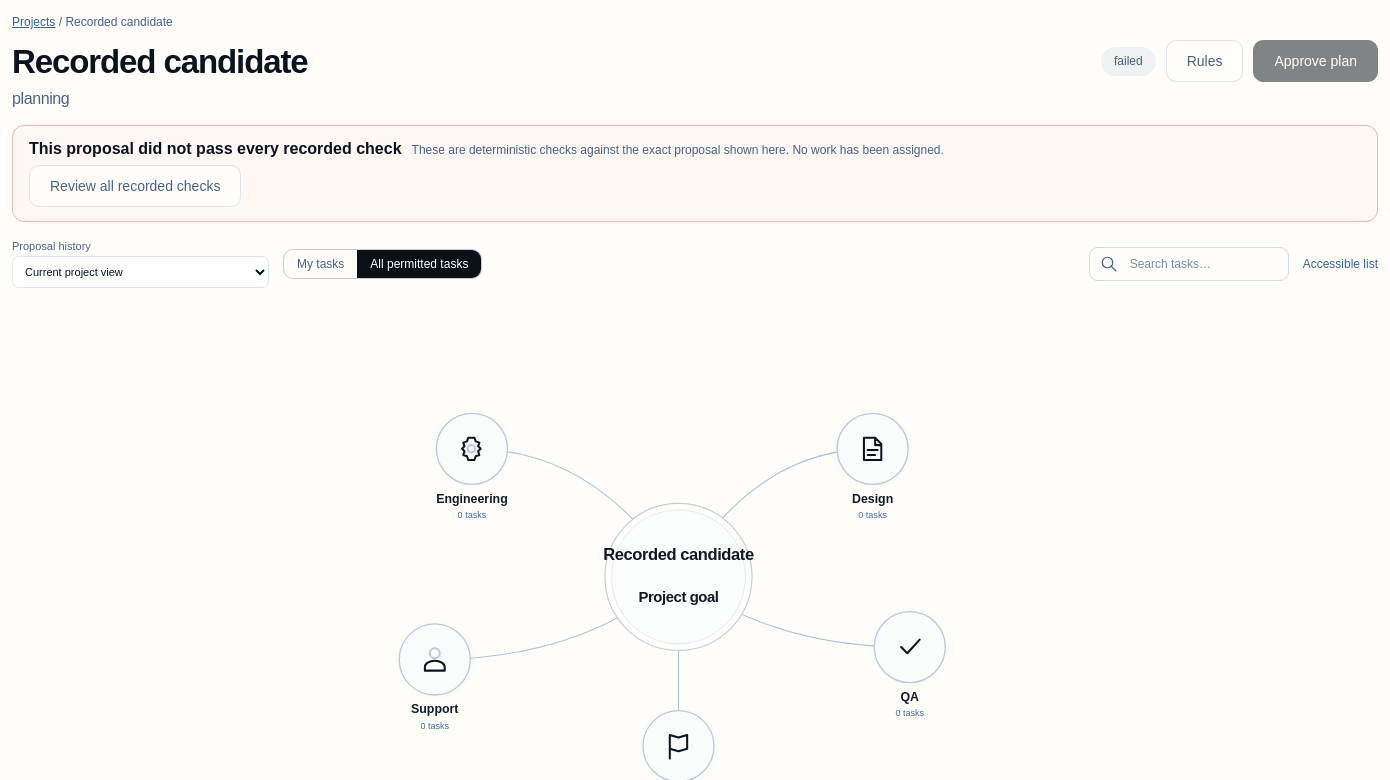
Scenario: ALTO authenticated route contracts › loads exact historical candidate evidence and never presents a failed check as an approved schedule
This screenshot has width=1390, height=780.
Select "v1 · authored check · failed · validation failed" in the dropdown labelled "Proposal history". click: (140, 272)
box: [12, 256, 269, 288]
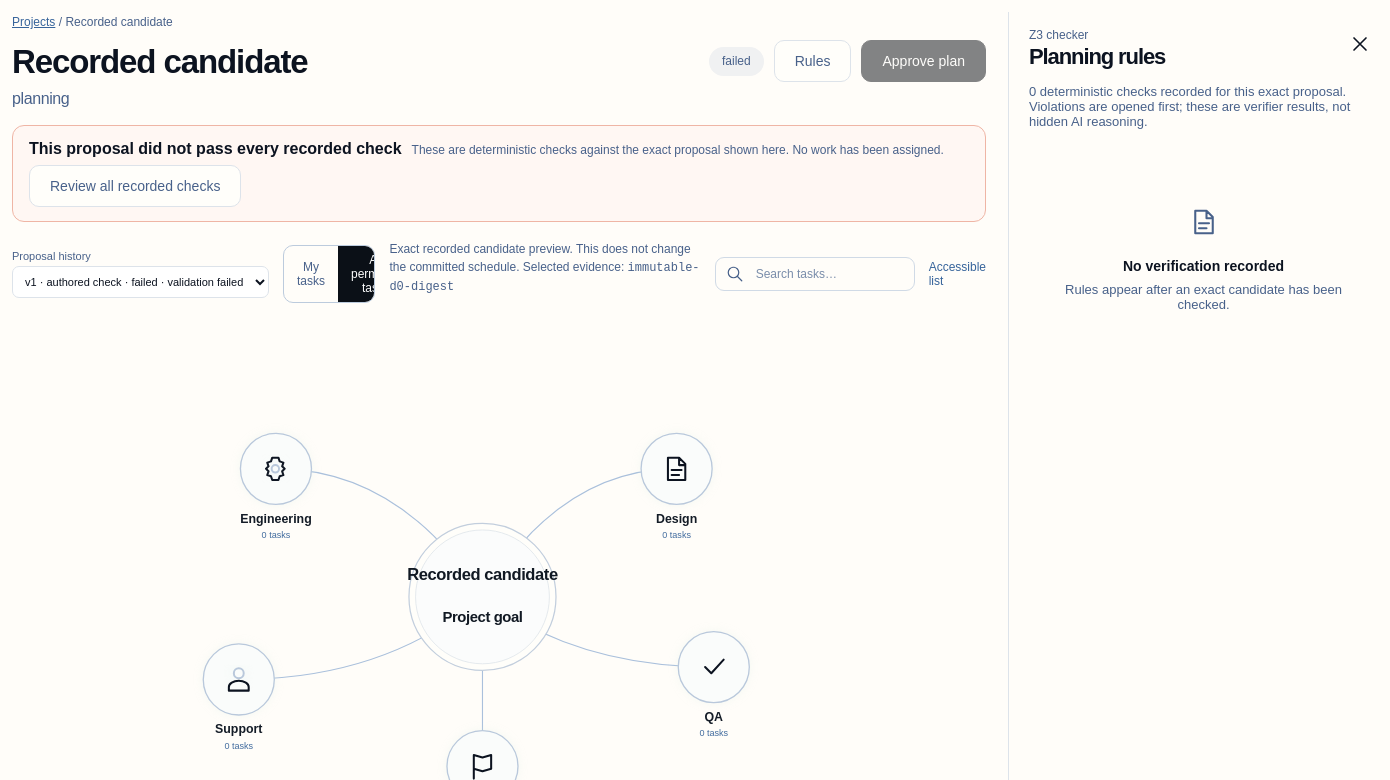
Expected: the button "Approve plan" is disabled, [862, 40, 986, 82]
Expected: the text "immutable-d0-digest" is shown, [389, 261, 700, 294]
